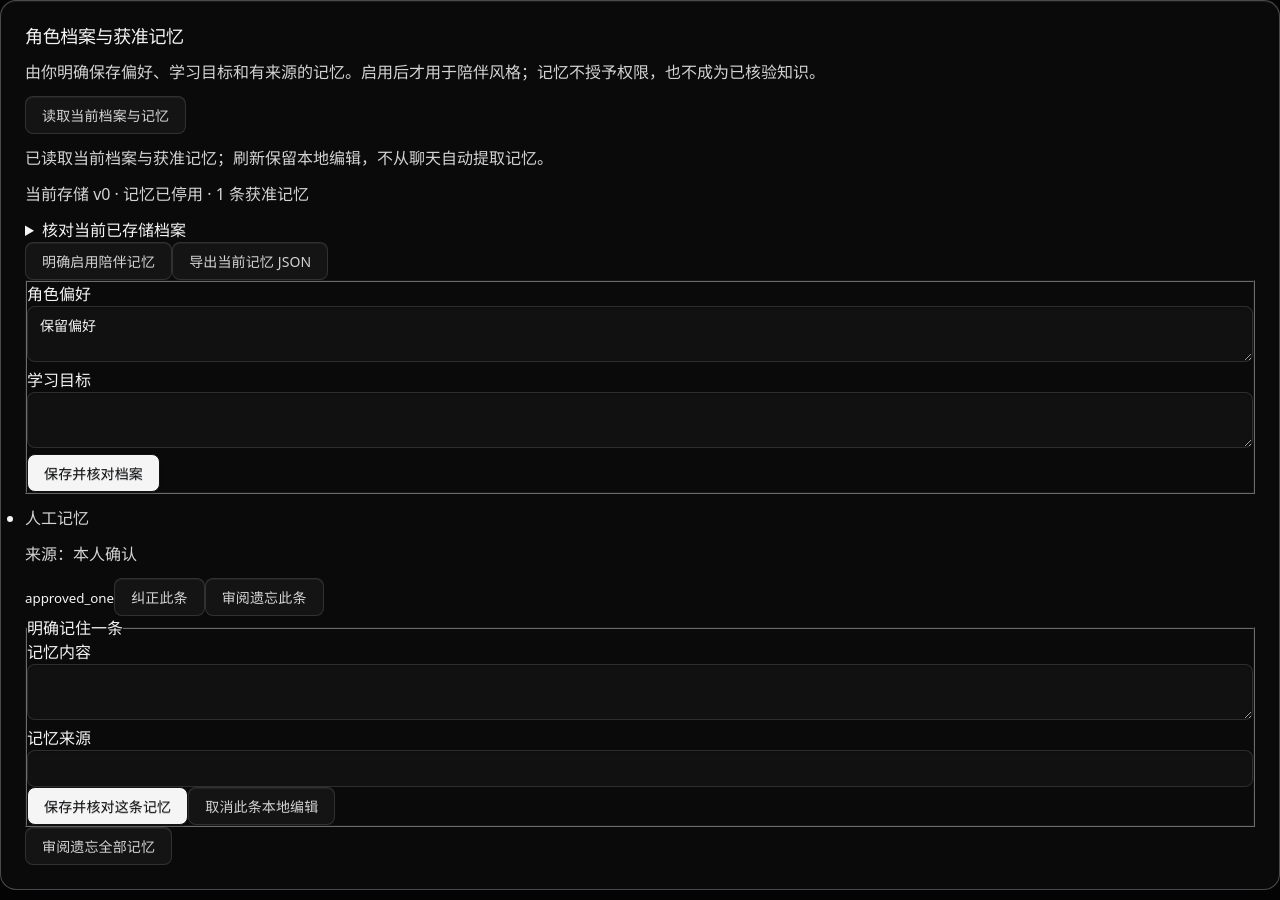
Test: SIMULATED forget cancellation writes nothing; confirmation removes actual store entry and preserves profile
Check: the text "当前存储 v0 · 记忆已停用 · 1 条获准记忆" is shown, box [25, 182, 309, 204]
Click the button "审阅遗忘此条" at x=264, y=596, box [205, 578, 324, 616]
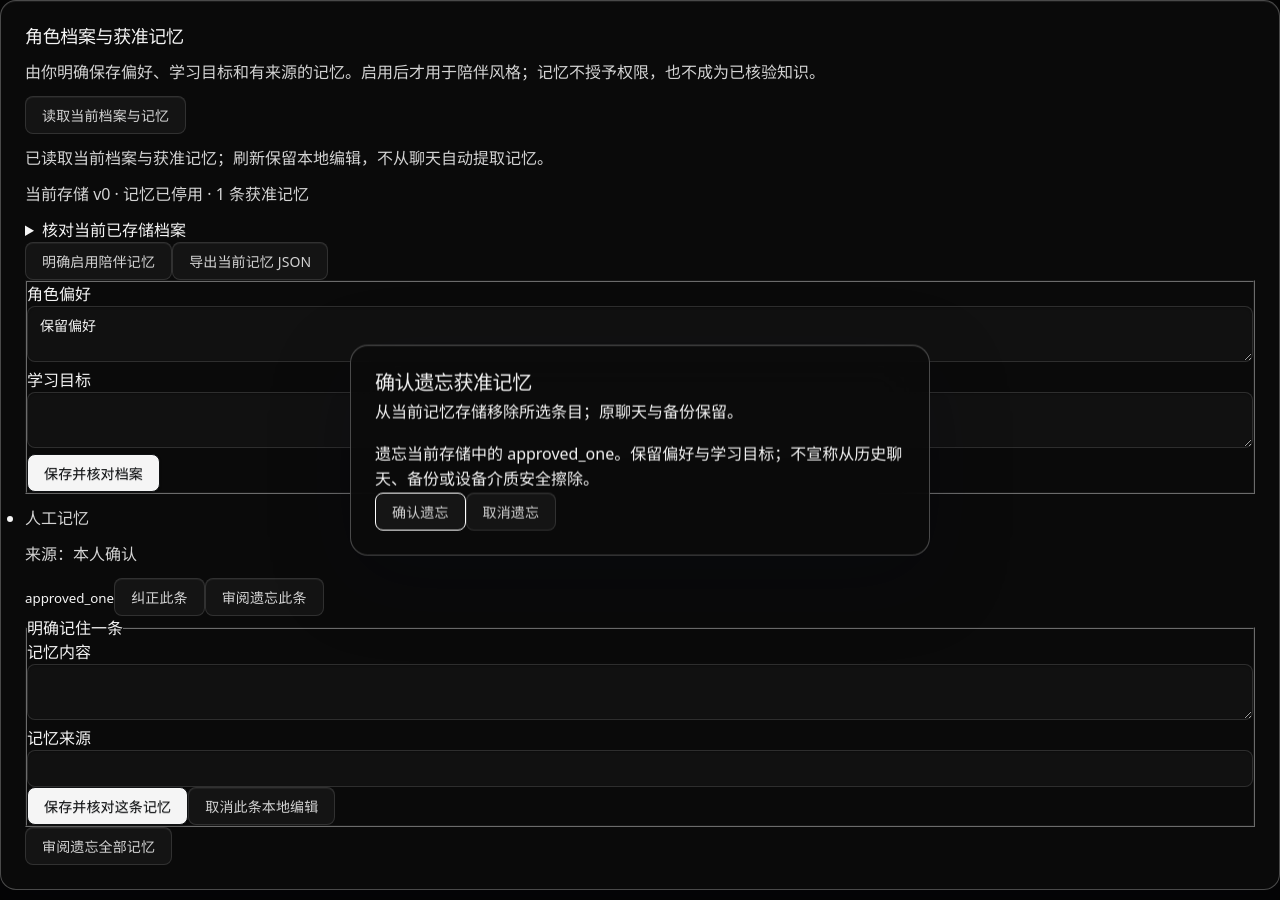
Click the button "取消遗忘" at x=511, y=511, box [466, 492, 556, 530]
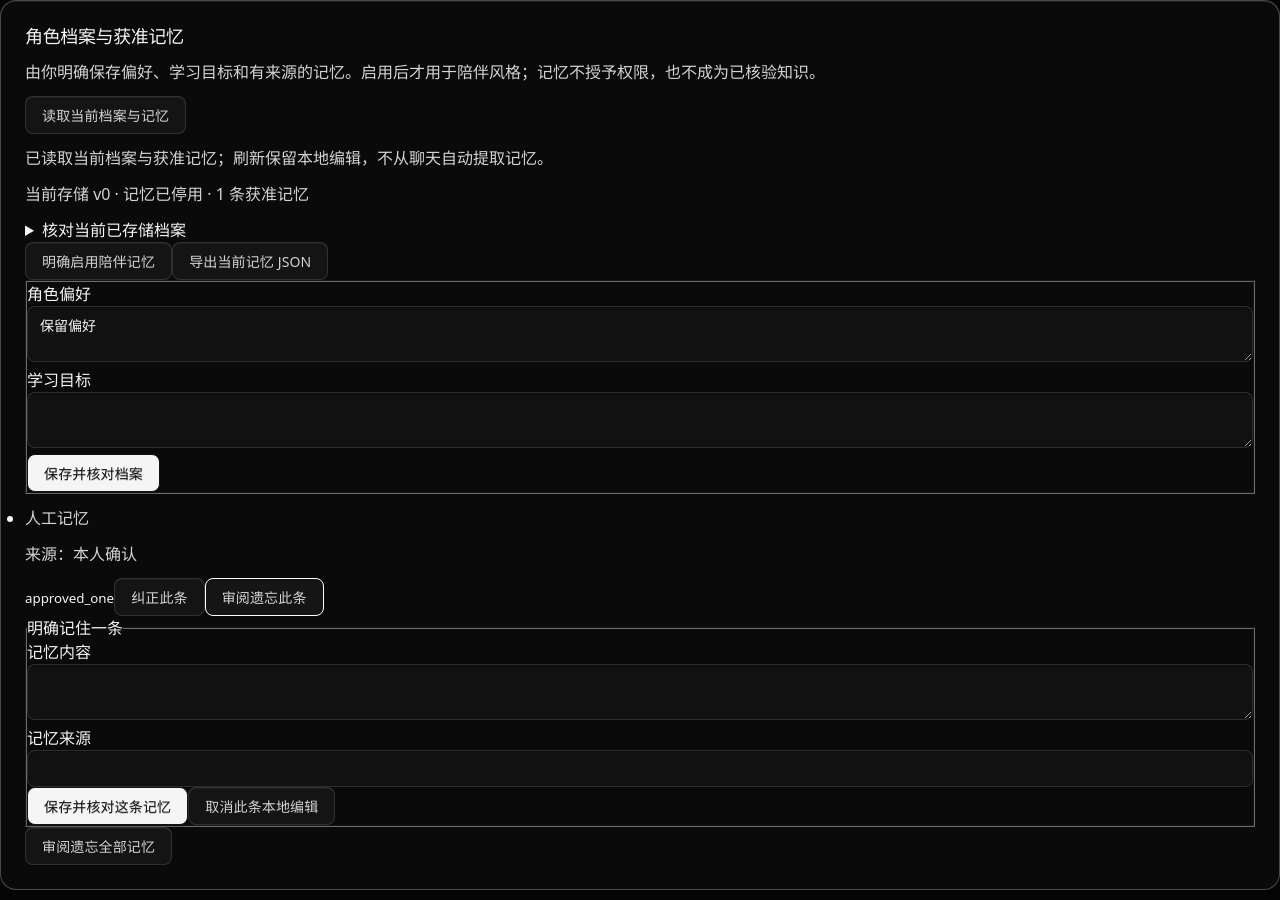
Click the button "审阅遗忘此条" at x=264, y=596, box [205, 578, 324, 616]
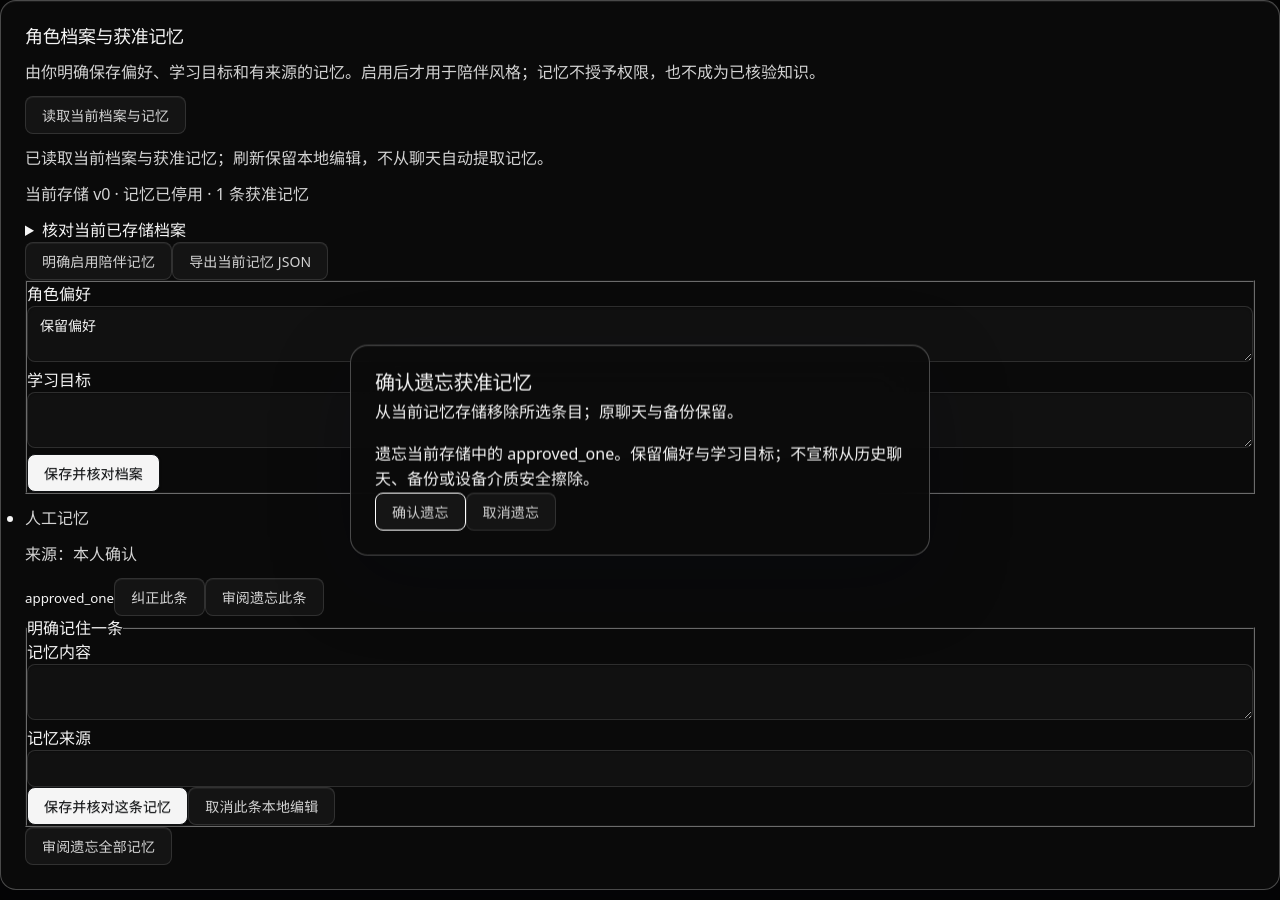
Click the button "确认遗忘" at x=420, y=511, box [375, 492, 466, 530]
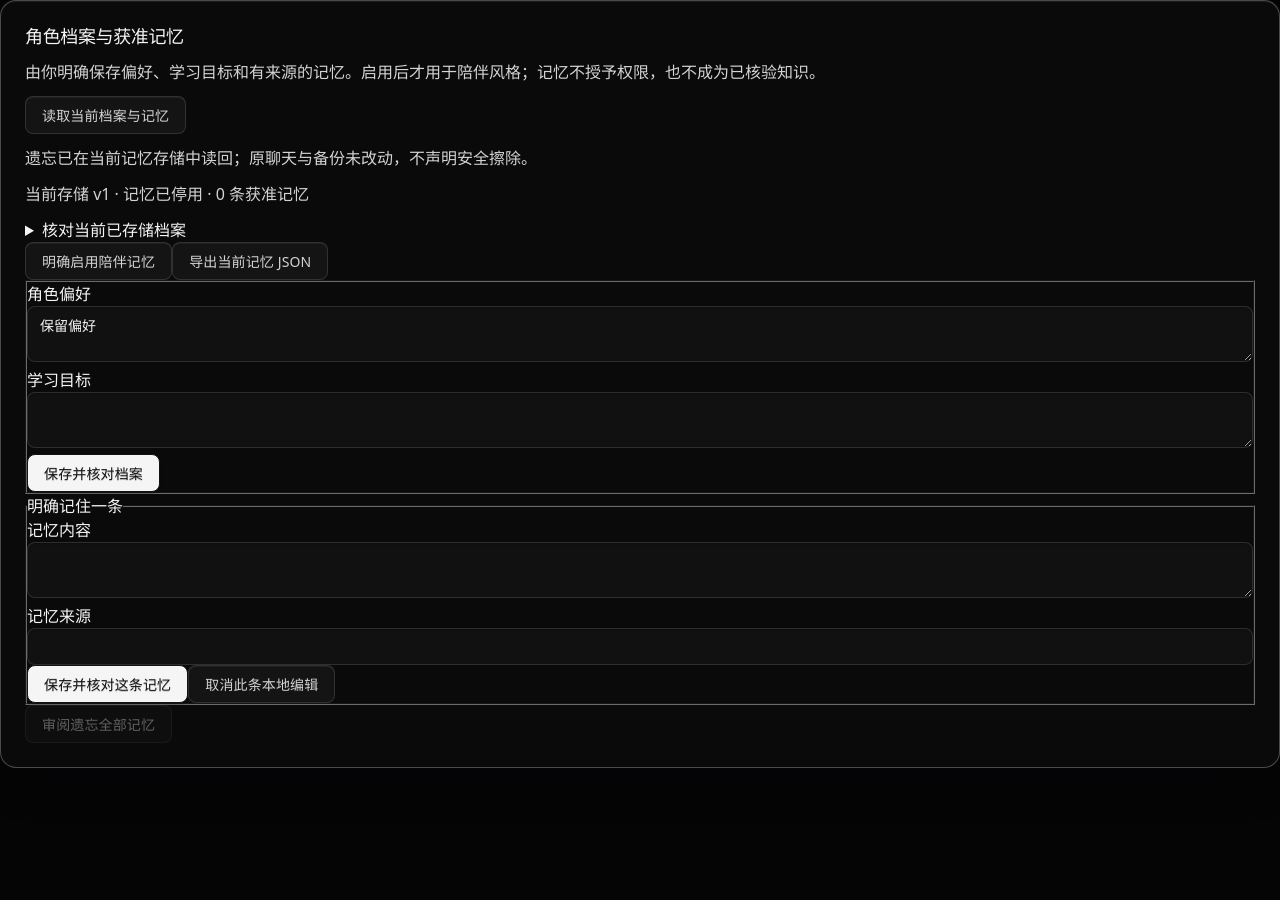
Check: the text "遗忘已在当前记忆存储中读回；原聊天与备份未改动，不声明安全擦除。" is shown, box [25, 146, 537, 168]
